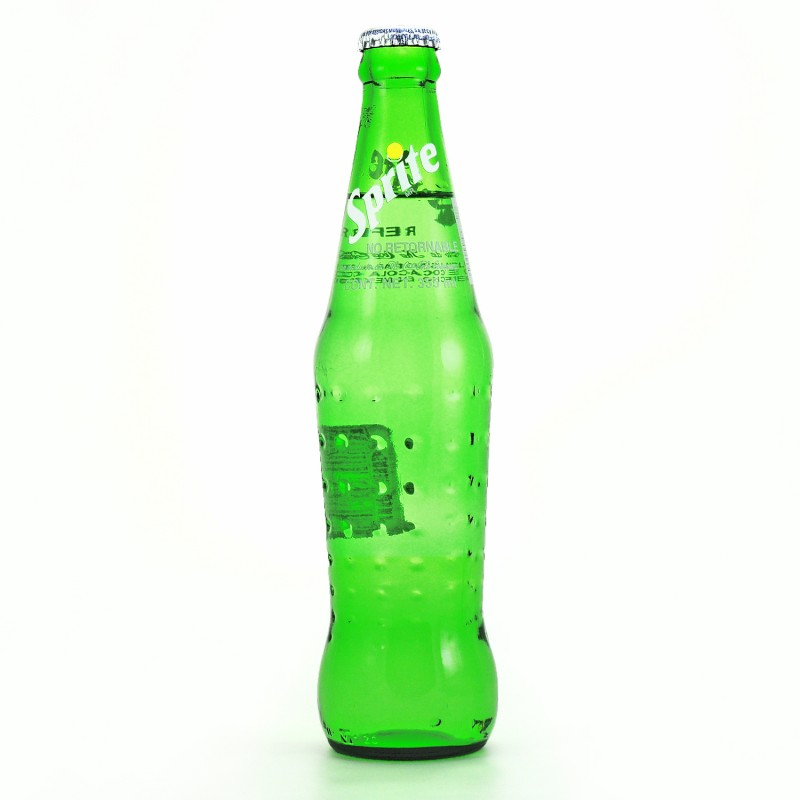Rec_Glass: (246, 18, 539, 783)
